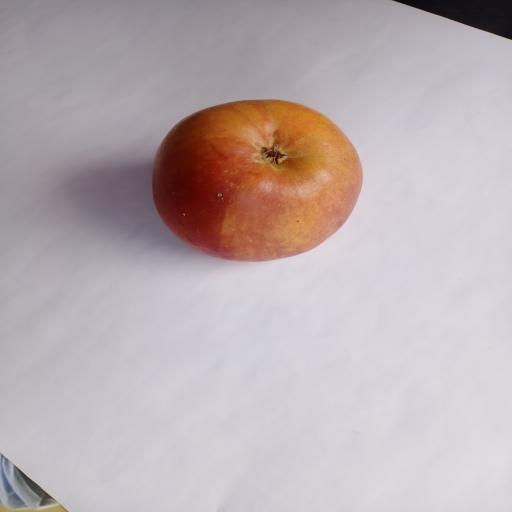apple-ripe: (143, 87, 365, 277)
